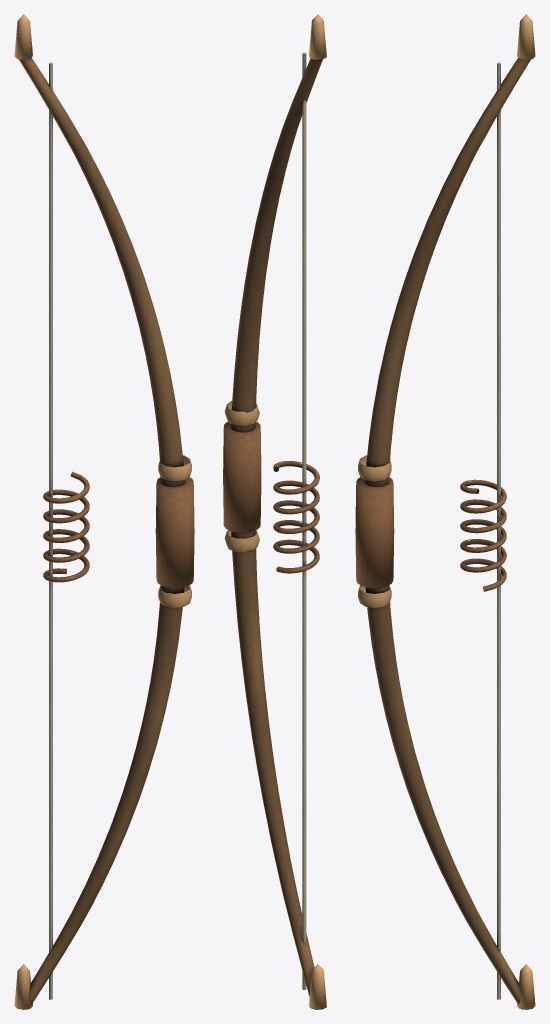
The model's file is arma_arco_longo_refinada.glb.
3 views of the same model, side by side, from view 1: azimuth 90°, elevation 25°; view 2: azimuth 210°, elevation 25°; view 3: azimuth 270°, elevation 25° (orthographic).
Parts seen in each view (by area): view 1: arma_arco_longo_refinada; view 2: arma_arco_longo_refinada; view 3: arma_arco_longo_refinada.
Part boxes in pixels (x1,y1,x2,y2): arma_arco_longo_refinada: (14,14,194,1009); arma_arco_longo_refinada: (223,14,326,1009); arma_arco_longo_refinada: (355,14,535,1009).
Bounding box in the file's own units: 0.0606 × 1.41 × 0.232.
1 material, 1 textured.
